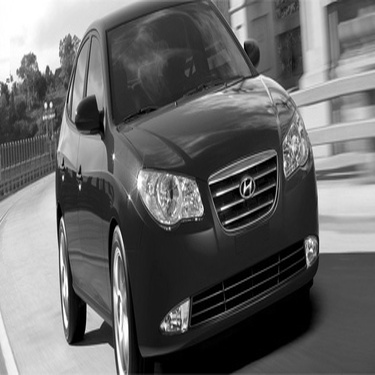car: (1, 8, 350, 359)
